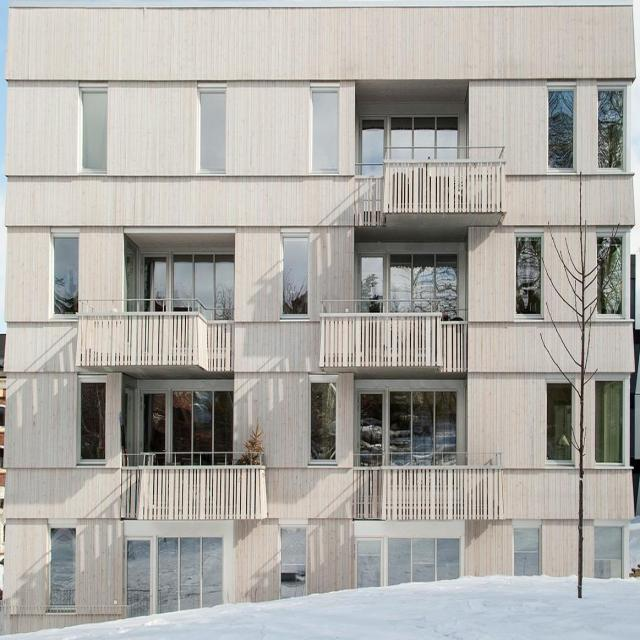Railing: (353, 157, 507, 224), (77, 312, 235, 371), (319, 313, 469, 373), (351, 468, 507, 521), (121, 465, 268, 521)
door: (122, 536, 157, 616), (353, 538, 388, 592)
wall: (4, 4, 637, 637)
windows: (356, 389, 460, 468), (359, 250, 460, 321), (144, 384, 230, 467), (140, 252, 235, 321), (360, 114, 461, 175), (158, 535, 222, 617), (387, 538, 461, 587), (595, 233, 626, 316), (50, 520, 78, 611), (311, 377, 338, 464), (312, 87, 338, 177), (596, 376, 623, 461), (78, 382, 105, 467), (515, 236, 544, 315), (547, 92, 574, 175), (281, 235, 309, 314), (198, 93, 225, 174), (599, 89, 626, 168), (547, 380, 572, 464), (82, 89, 105, 176), (280, 522, 306, 597), (55, 233, 78, 313), (514, 526, 542, 580), (596, 526, 624, 579)
